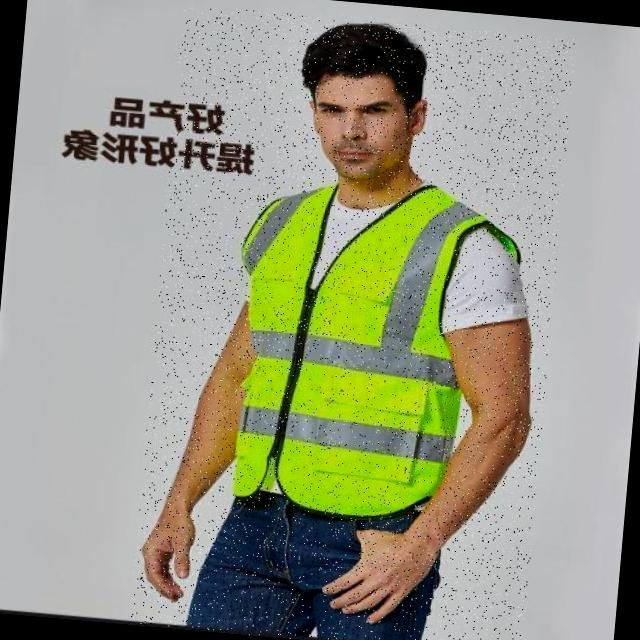no-gloves: (102, 476, 219, 610), (337, 509, 442, 635)
no-helmet: (264, 0, 487, 201)
vest: (209, 170, 516, 526)
